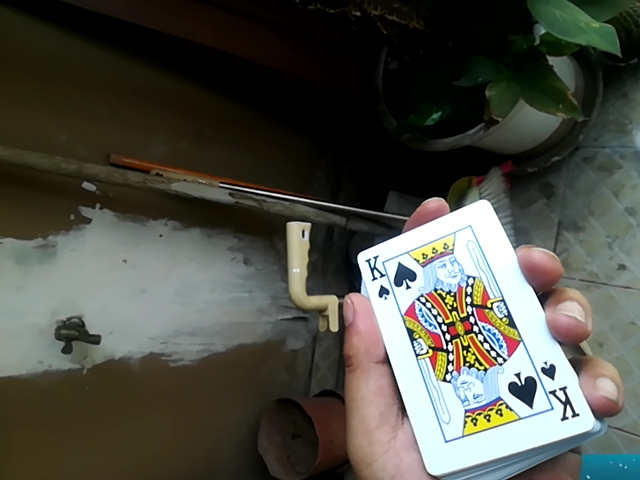ht k: (345, 189, 574, 471)
